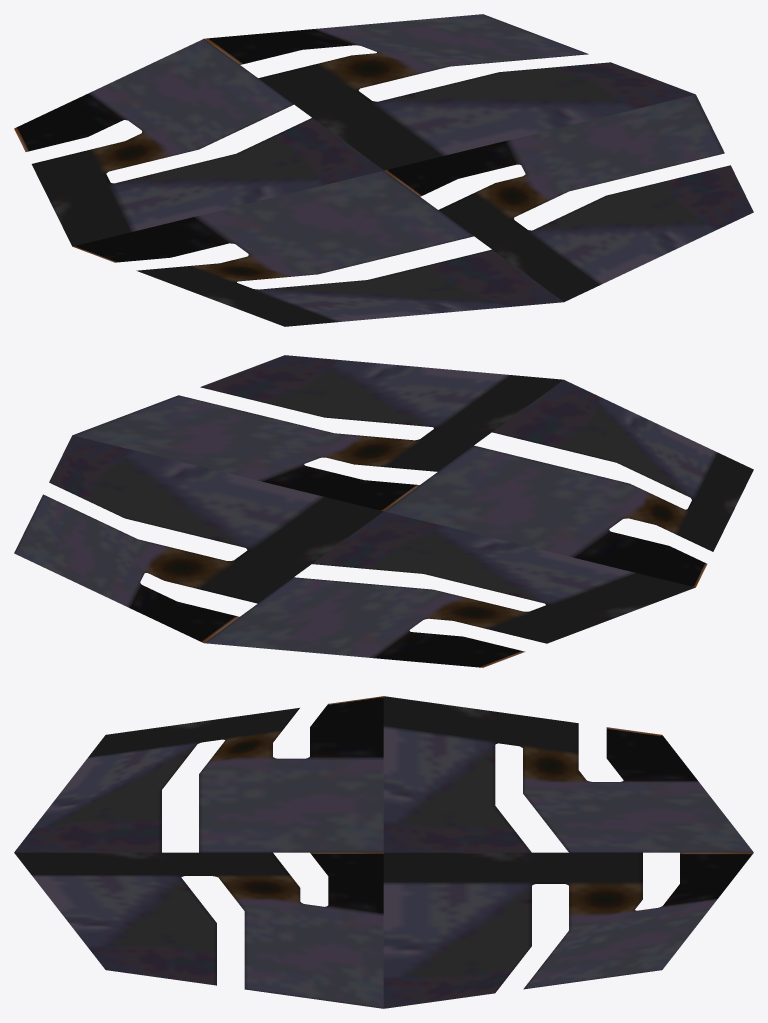
3 views of the same model, one above another, from view 1: azimuth 30°, elevation 25°; view 2: azimuth 150°, elevation 25°; view 3: azimuth 270°, elevation 25° (orthographic). The views are drawn at different scales.
Parts seen in each view (by area): view 1: T1L6M005_23; view 2: T1L6M005_23; view 3: T1L6M005_23.
Boxes of the visible parts, box(x1,y1,x2,y2) form: T1L6M005_23: box(14, 14, 753, 326); T1L6M005_23: box(14, 355, 753, 667); T1L6M005_23: box(14, 696, 753, 1008).
Size of the model in its own units: 1.81 by 0 by 1.81.
